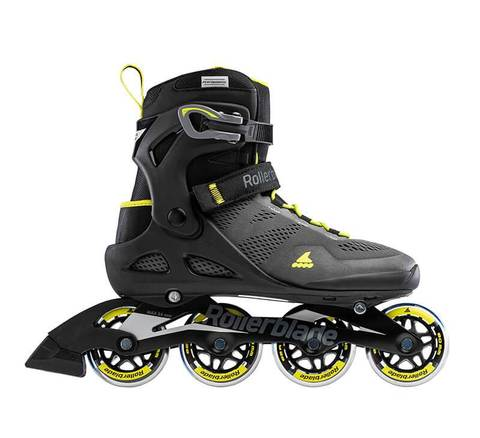roller_blade: (46, 71, 449, 384)
